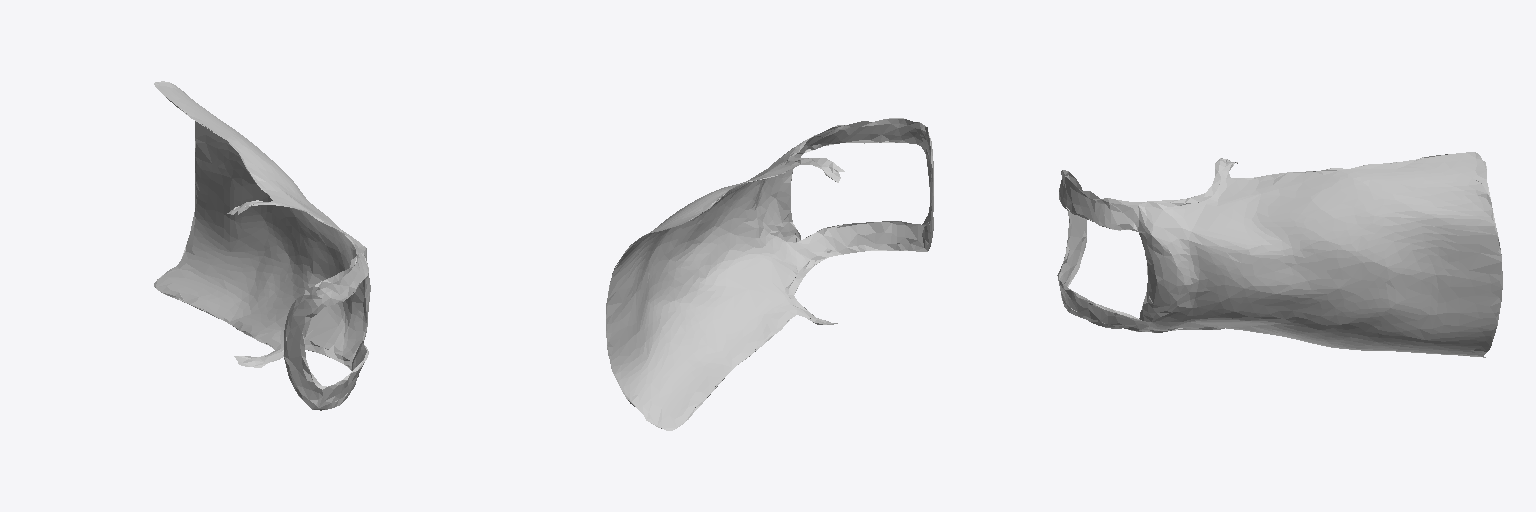
File: apron_oneloop.obj
The picture shows the model from 3 angles: view 1: azimuth 30°, elevation 25°; view 2: azimuth 150°, elevation 25°; view 3: azimuth 270°, elevation 25°; orthographic projection.
Size of the model in its own units: 0.1659 by 0.2337 by 0.4642.